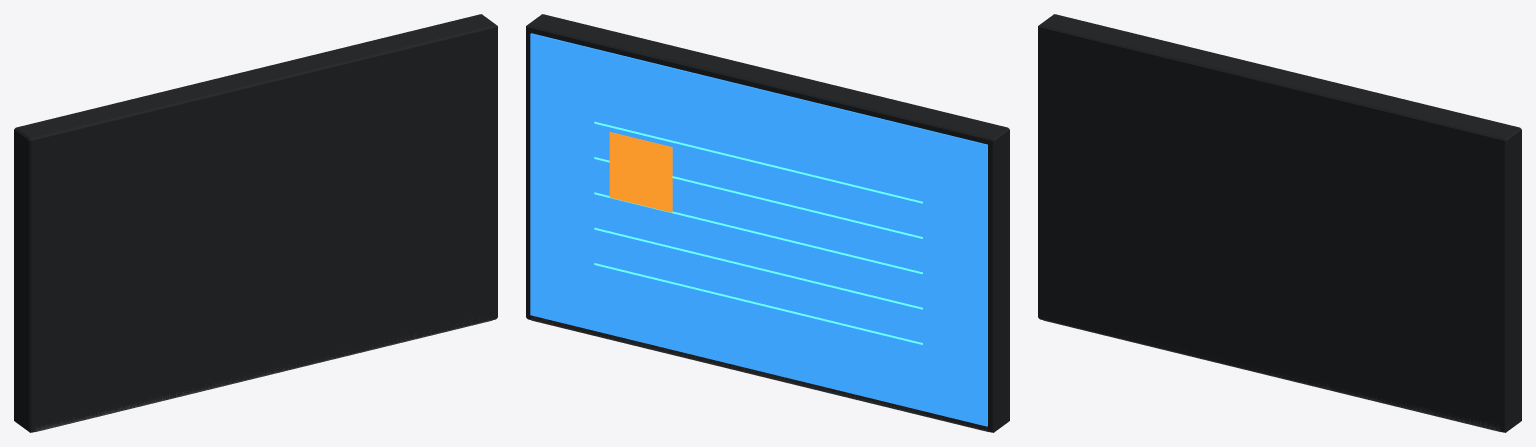
Rendered from briefing_screen.glb.
3 renders of one model, left to right at view 1: azimuth 30°, elevation 25°; view 2: azimuth 150°, elevation 25°; view 3: azimuth 330°, elevation 25°, orthographic.
Parts seen in each view (by area): view 1: briefing_screen; view 2: briefing_screen; view 3: briefing_screen.
Part boxes in pixels (<box>): briefing_screen: <box>14,14,497,432</box>; briefing_screen: <box>526,14,1009,432</box>; briefing_screen: <box>1038,14,1521,432</box>.
Bounding box in the file's own units: 3 × 1.8 × 0.2.
